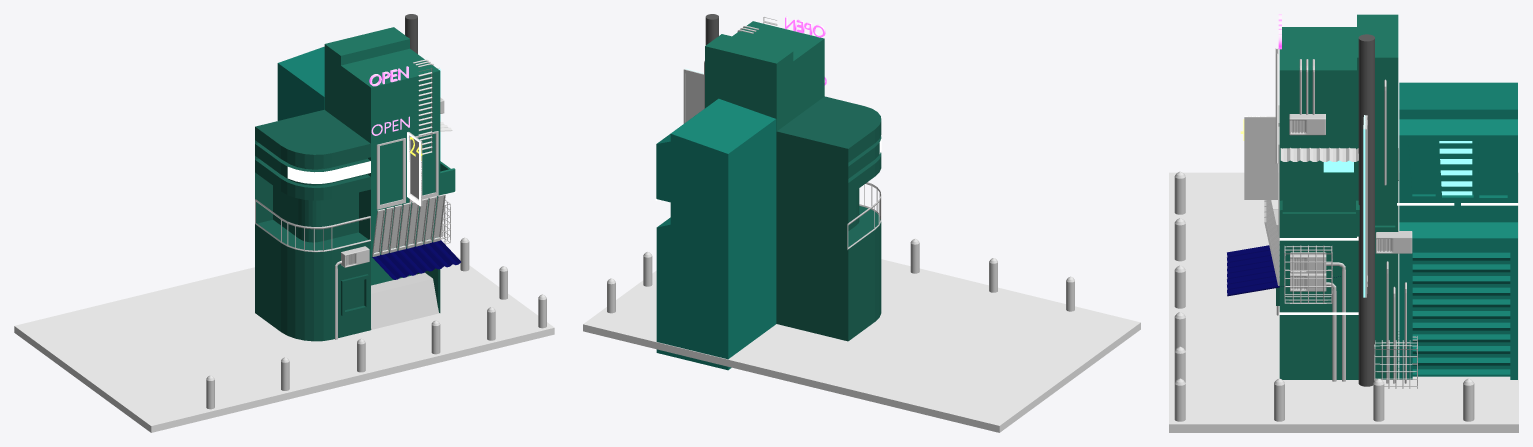
The model's file is CyberCity.glb.
3 views of the same model, side by side, from view 1: azimuth 30°, elevation 25°; view 2: azimuth 150°, elevation 25°; view 3: azimuth 270°, elevation 25° (orthographic). The views are drawn at different scales.
Parts seen in each view (by area): view 1: Cube.004, Cube.002, Cube.001, Cube.003, Cube.013, Plane, Cube.034, Cube.014, Plane.010, Plane.011, Plane.014; view 2: Cube.004, Cube.003, Cube.002, Cube.001, Plane.012, Cube.014; view 3: Cube.004, Cube.003, Cube.001, Cylinder.038, Plane.011, Plane, Cube.011, Plane.013, Cube.010, Cube.012, Cube.015, Cube.009 (+17 smaller).
Boxes of the visible parts, x1,y1,x2,y2 form: Cube.004: (14,255,554,432); Cube.002: (255,109,370,341); Cube.001: (324,27,455,312); Cube.003: (277,46,324,120); Cube.013: (371,272,438,329); Plane: (372,240,460,279); Cube.034: (287,161,370,183); Cube.014: (255,199,370,252); Plane.010: (376,138,405,209); Plane.011: (408,132,422,206); Plane.014: (418,68,432,154); Cube.004: (583,259,1140,432); Cube.003: (656,98,776,370); Cube.002: (776,96,881,341); Cube.001: (705,21,824,323); Plane.012: (683,69,703,123); Cube.014: (847,182,881,249); Cube.004: (1169,172,1518,432); Cube.003: (1399,82,1517,379); Cube.001: (1279,14,1398,379); Cylinder.038: (1358,34,1374,386); Plane.011: (1244,116,1277,199); Plane: (1227,245,1340,296); Cube.011: (1284,245,1332,303); Plane.013: (1280,147,1358,161); Cube.010: (1374,330,1417,388); Cube.012: (1375,231,1412,253); Cube.015: (1289,114,1325,135); Cube.009: (1290,252,1326,273).
Size of the model in its own units: 10.03 by 6.68 by 5.9.
